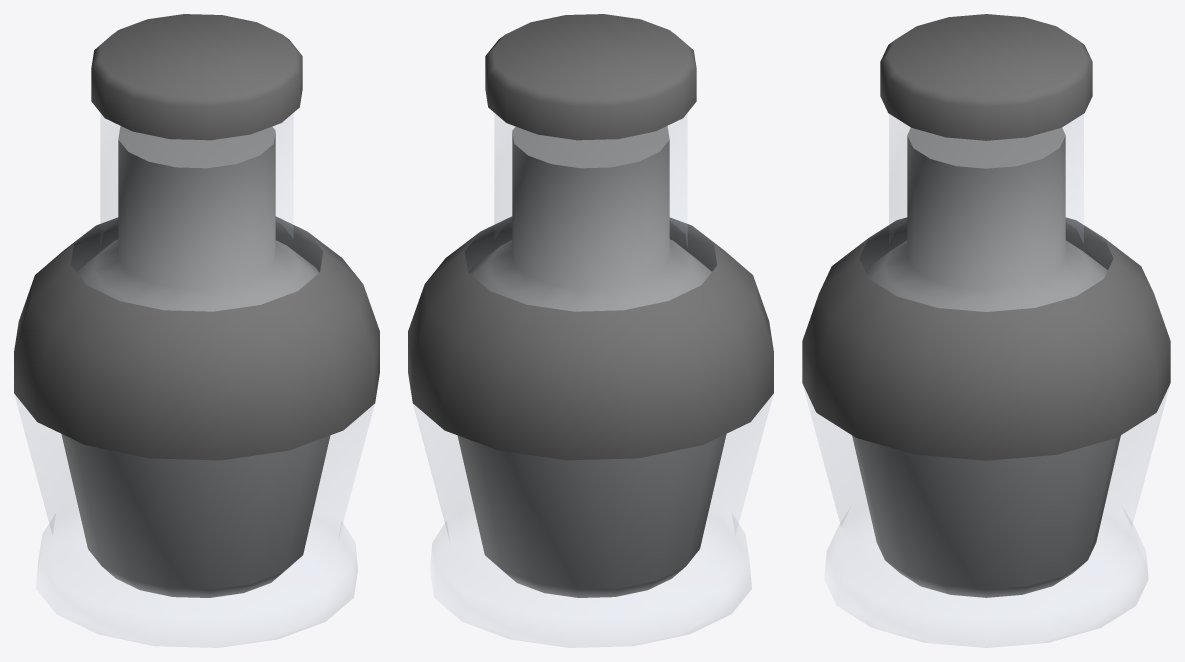
File: bottle4.fbx
The picture shows the model from 3 angles, left to right: view 1: azimuth 30°, elevation 25°; view 2: azimuth 150°, elevation 25°; view 3: azimuth 270°, elevation 25°; orthographic projection.
Visible parts, largest first — view 1: Bottle-4; view 2: Bottle-4; view 3: Bottle-4.
Part boxes in pixels (x1,y1,x2,y2): Bottle-4: (14,14,379,647); Bottle-4: (408,14,773,647); Bottle-4: (802,14,1170,647).
Bounding box in the file's own units: 200 × 321 × 200.
